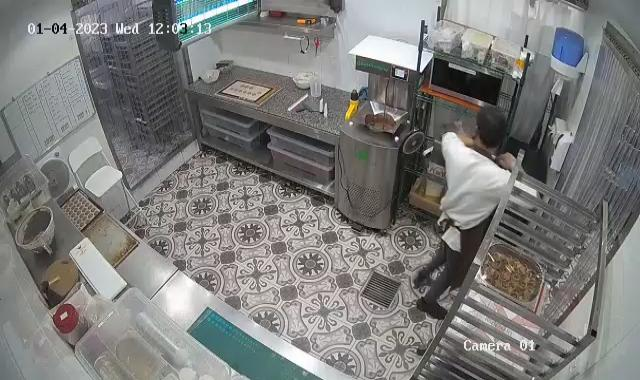no_hairnet: (473, 106, 509, 149)
